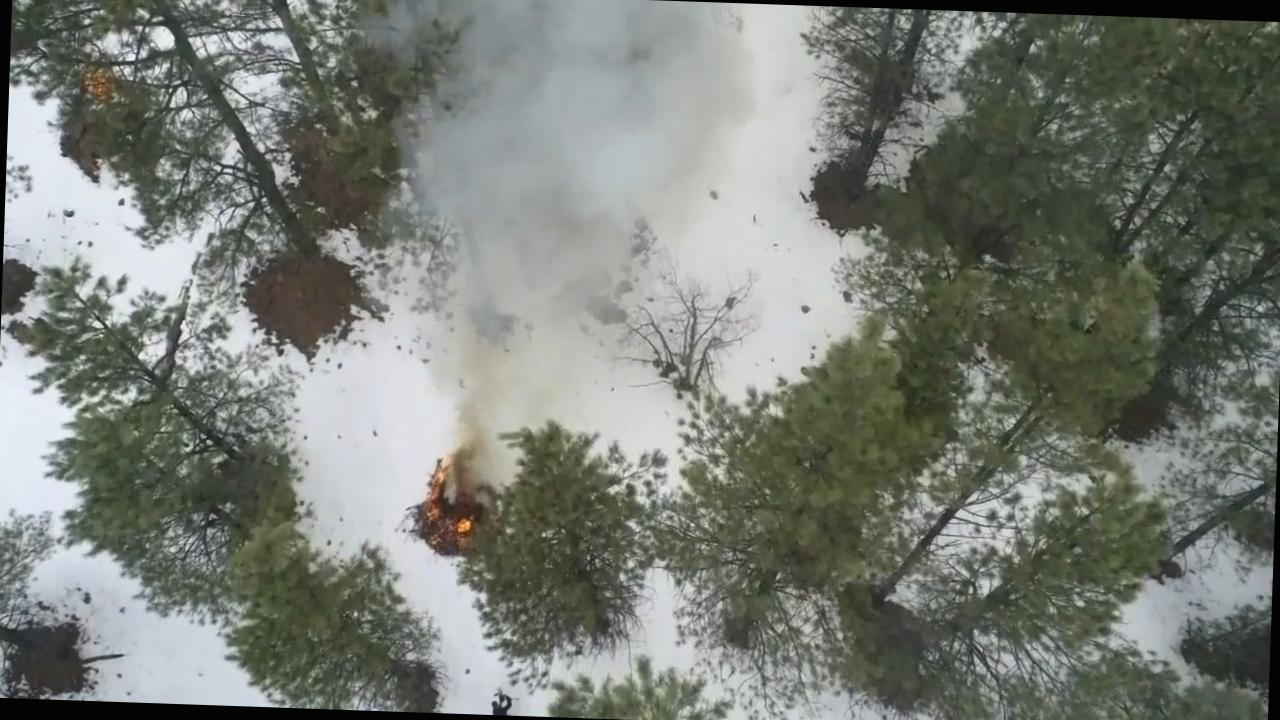fire: (422, 446, 487, 534)
smoke: (425, 0, 700, 257)
